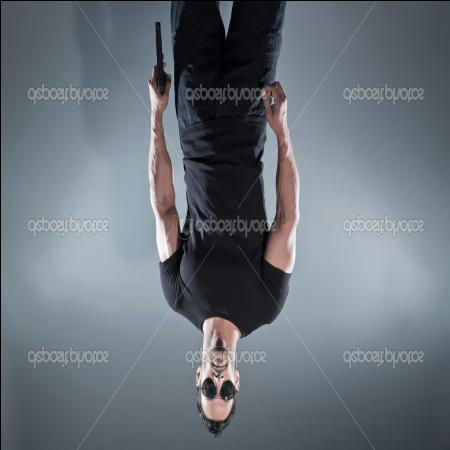Pistol: (142, 14, 171, 111)
